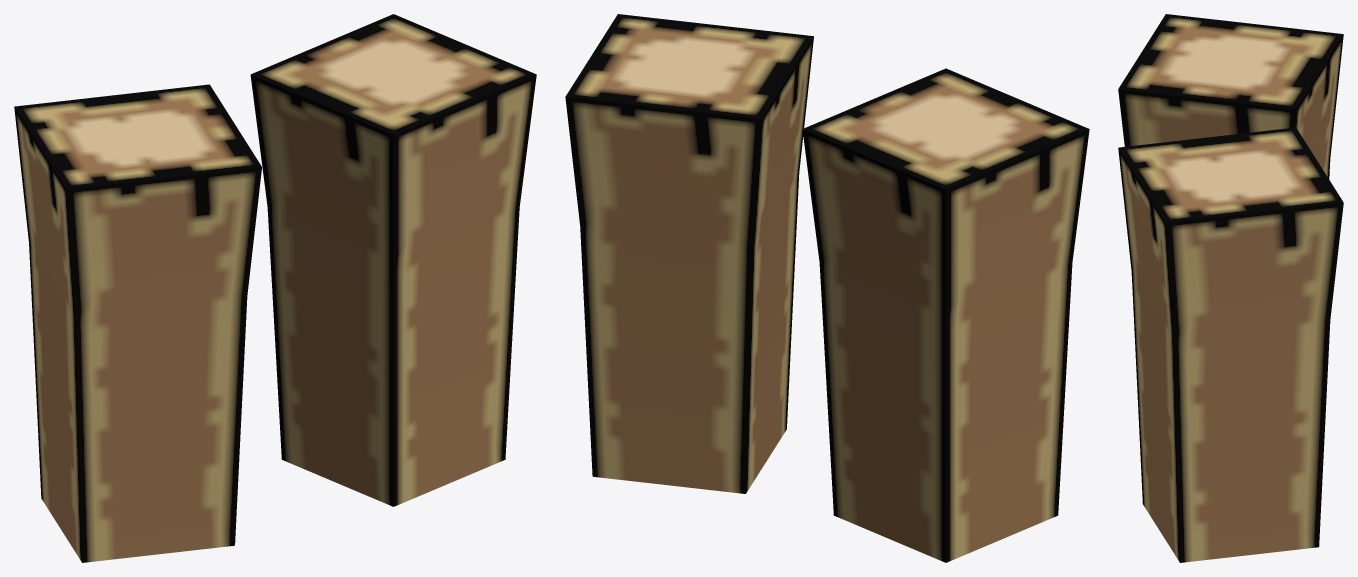
The model's file is deco_cathedral_poles.FBX.
3 views of the same model, side by side, from view 1: azimuth 30°, elevation 25°; view 2: azimuth 150°, elevation 25°; view 3: azimuth 270°, elevation 25° (orthographic). The views are drawn at different scales.
Visible parts, largest first — view 1: deco_cathedral_poles; view 2: deco_cathedral_poles; view 3: deco_cathedral_poles.
Boxes of the visible parts, bbox=[...] form: deco_cathedral_poles: bbox=[14, 14, 536, 562]; deco_cathedral_poles: bbox=[565, 14, 1089, 562]; deco_cathedral_poles: bbox=[1118, 14, 1343, 562].
Bounding box in the file's own units: 1.85 × 1.45 × 0.8459.
1 material, 1 textured.
